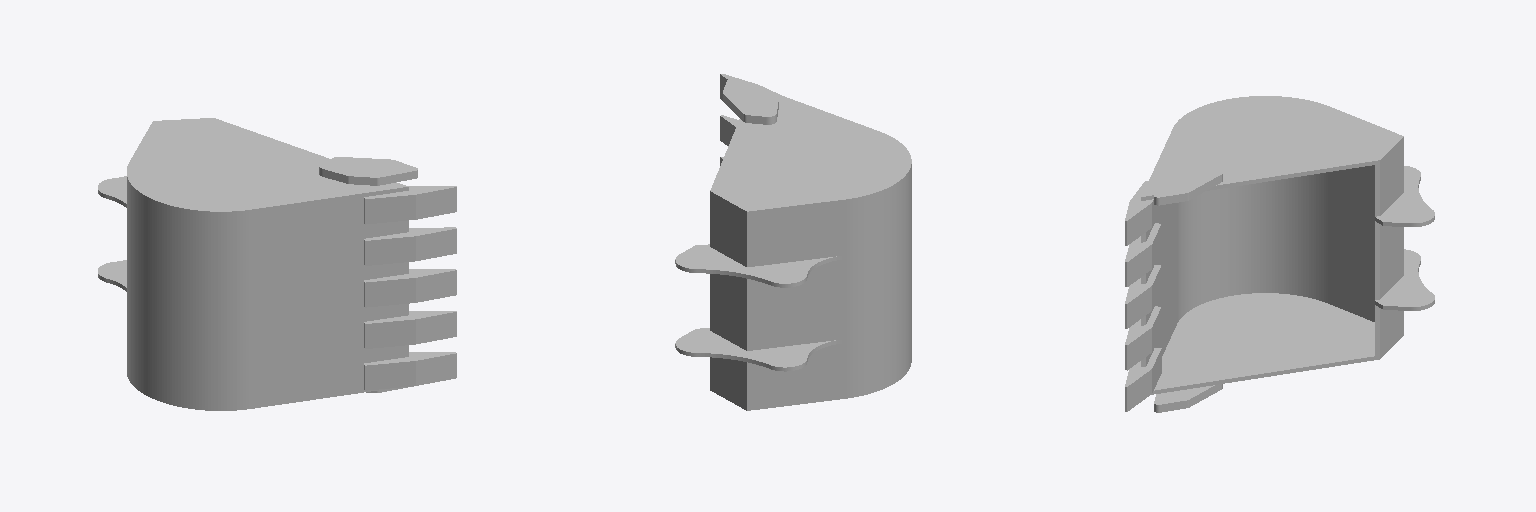
The model's file is meshbody24_rviz.obj.
3 renders of one model, left to right at view 1: azimuth 30°, elevation 25°; view 2: azimuth 150°, elevation 25°; view 3: azimuth 270°, elevation 25°, orthographic.
Parts seen in each view (by area): view 1: meshbody24_rviz\Facets; view 2: meshbody24_rviz\Facets; view 3: meshbody24_rviz\Facets.
Boxes of the visible parts, <box> form: meshbody24_rviz\Facets: <box>98,118,456,410</box>; meshbody24_rviz\Facets: <box>675,74,911,410</box>; meshbody24_rviz\Facets: <box>1125,96,1434,412</box>.
Size of the model in its own units: 1.1 by 0.9129 by 1.19.